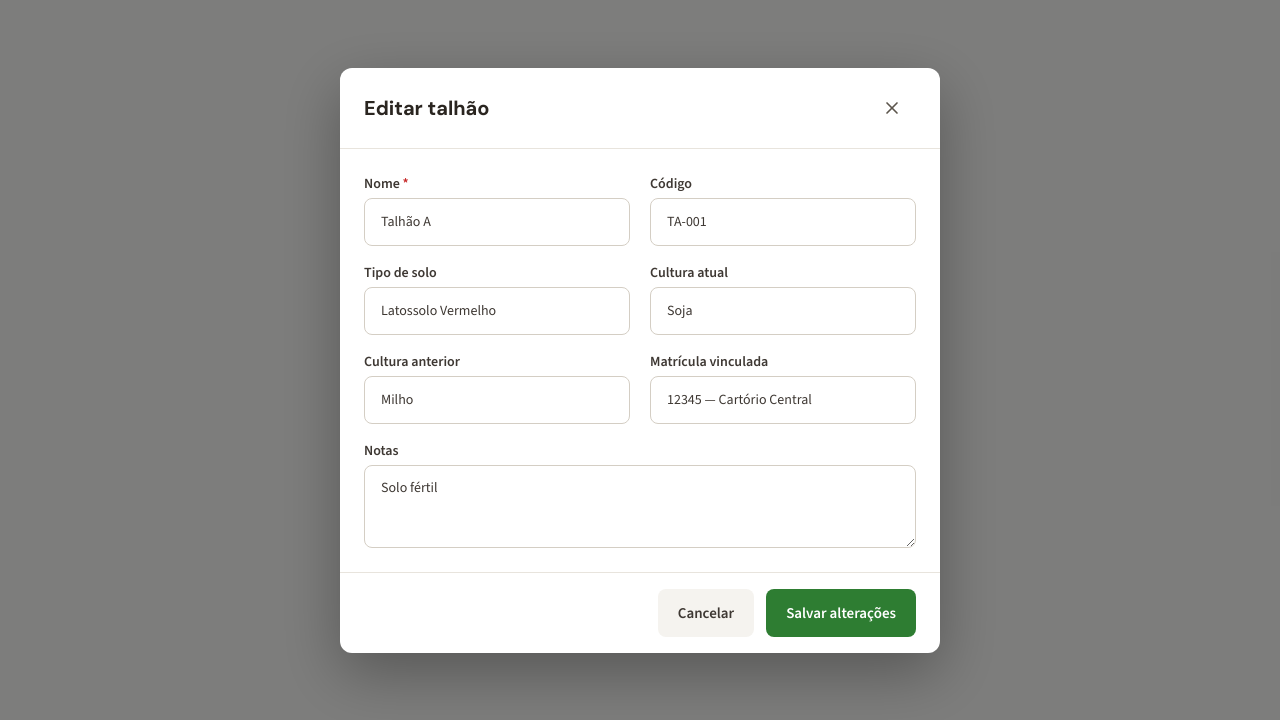
Scenario: EditPlotModal › validates name as required on blur
Clear the field labelled "Nome *" at {"x": 497, "y": 222}, box [364,198,630,246]
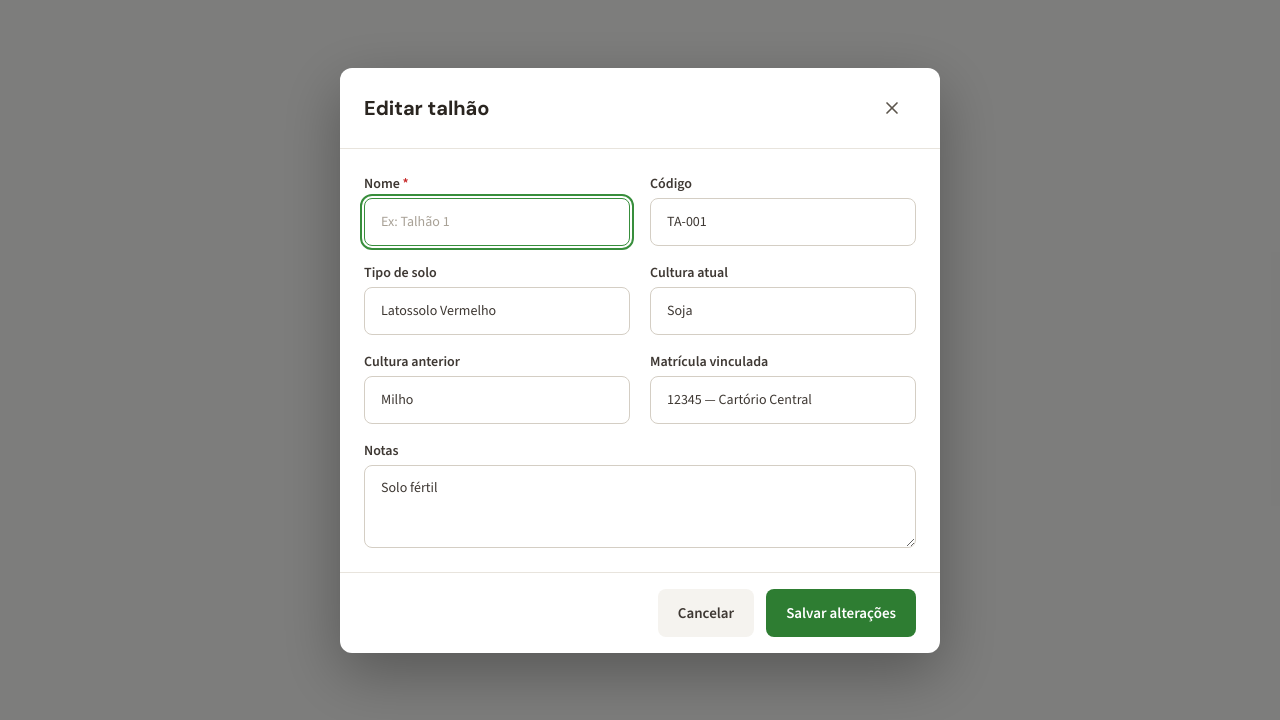
Press Tab
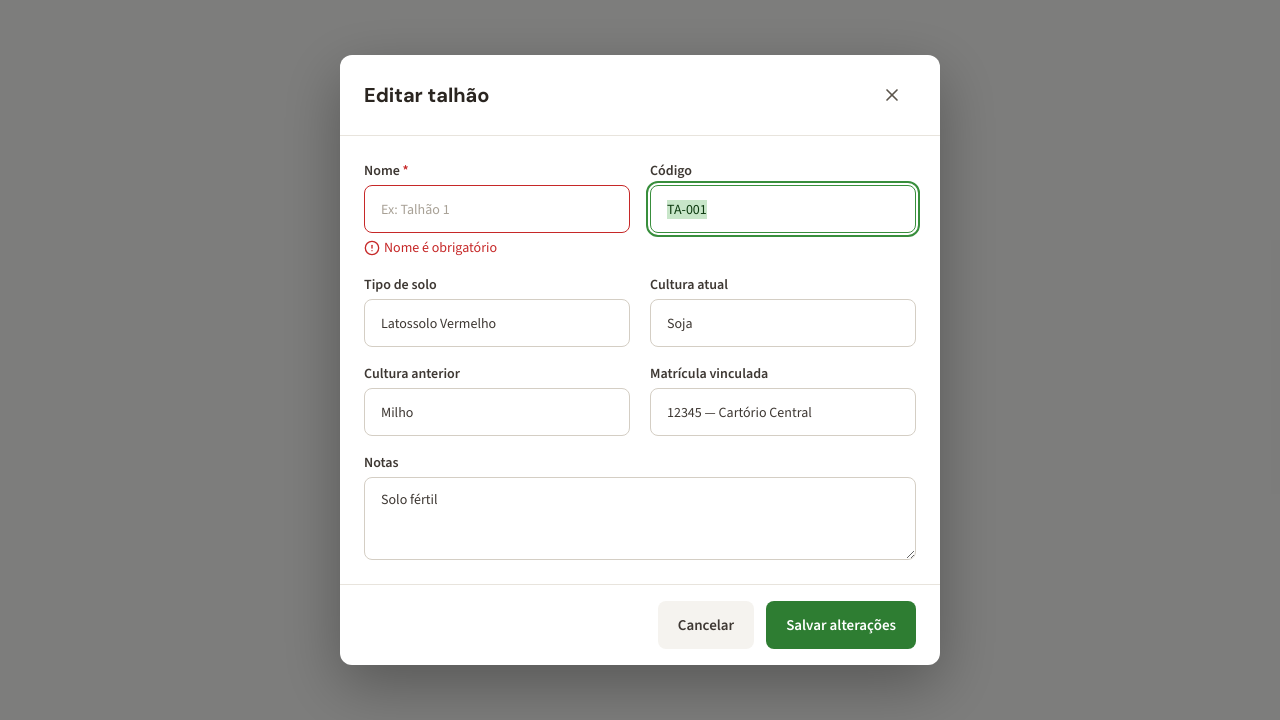
Now the text "Nome é obrigatório" is shown, box [364,238,497,257]
